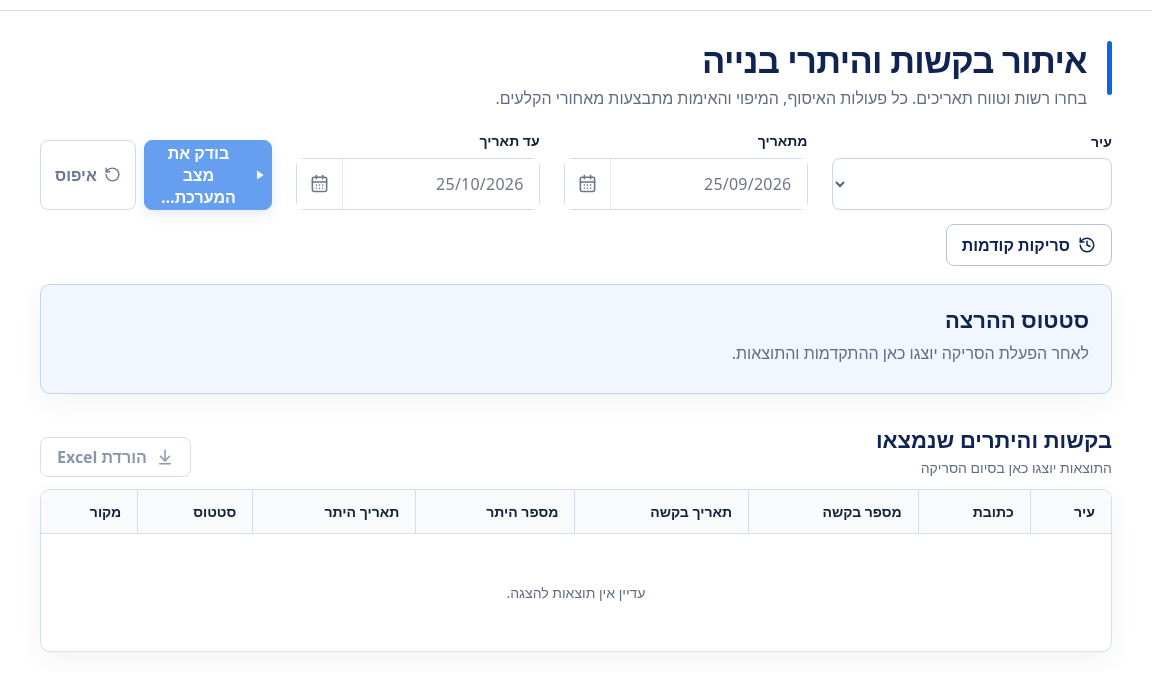
Test case: offers retry on a results failure without claiming an empty scan
Click the button "סריקות קודמות".
click(1029, 245)  # box x1=946 y1=224 x2=1112 y2=266
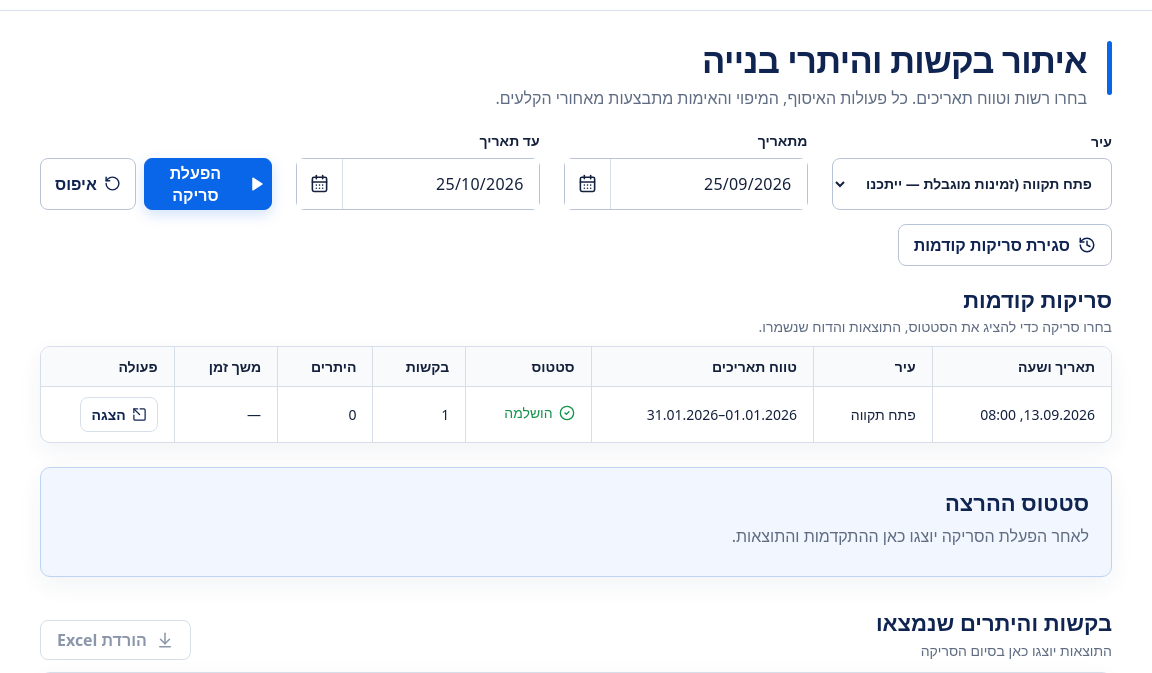
Click the button "הצגה".
click(119, 414)  # box x1=80 y1=397 x2=158 y2=432
(page scrolled)
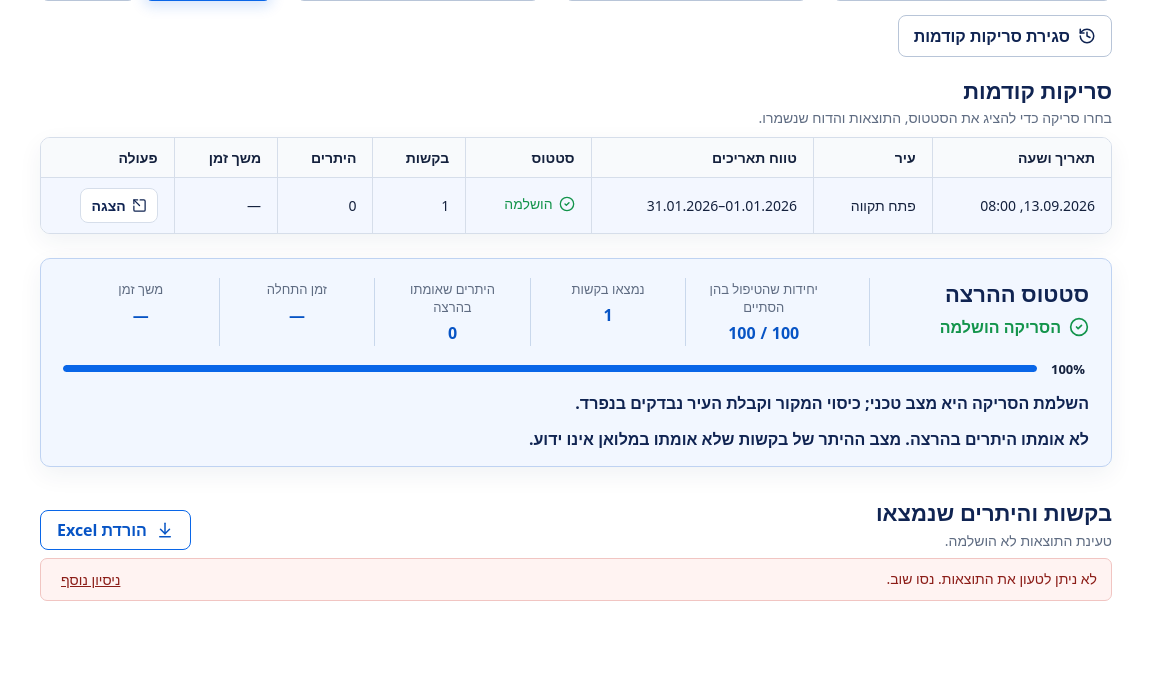
Click the button "ניסיון נוסף".
click(91, 579)  # box x1=55 y1=569 x2=126 y2=590
(page scrolled)
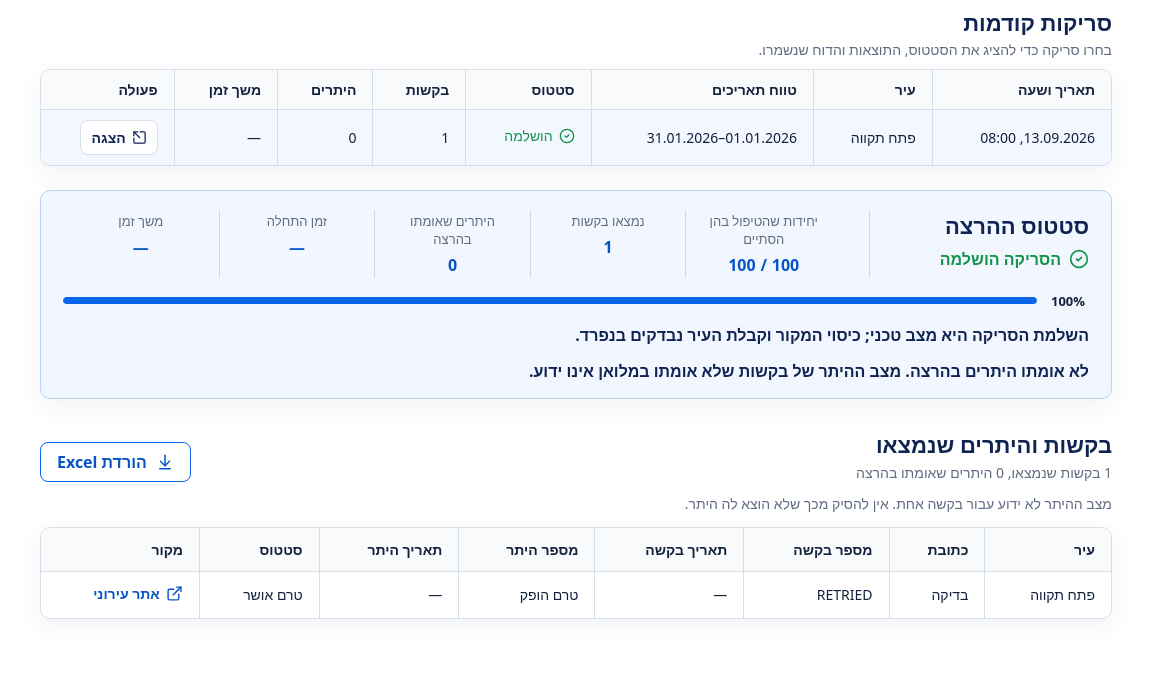
Result: the text "RETRIED" is shown at x1=744 y1=571 x2=889 y2=618
